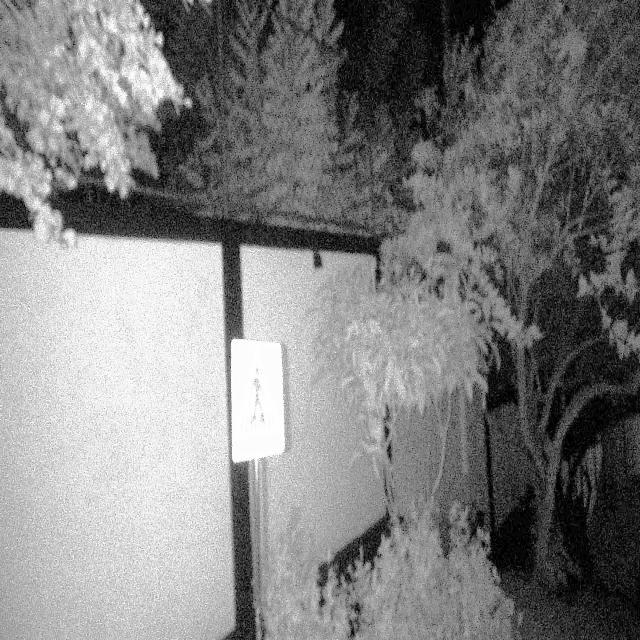Sign: (228, 335, 288, 467)
